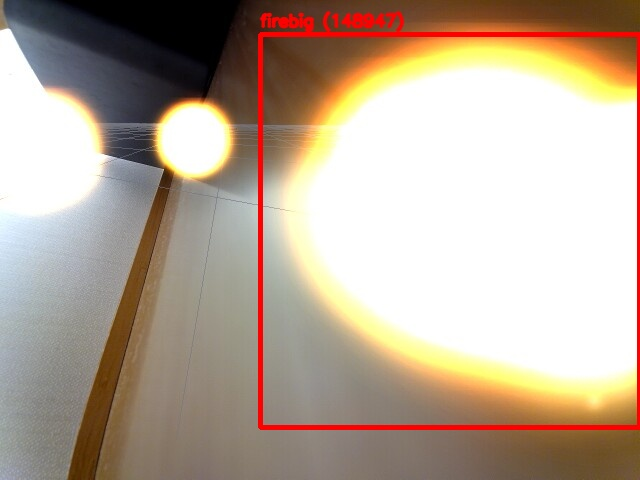firebig: (260, 34, 639, 427)
